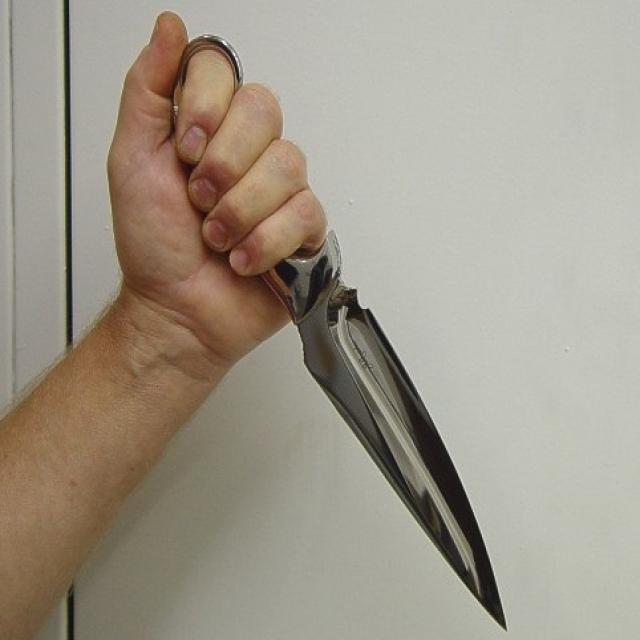knife: (284, 235, 527, 637)
